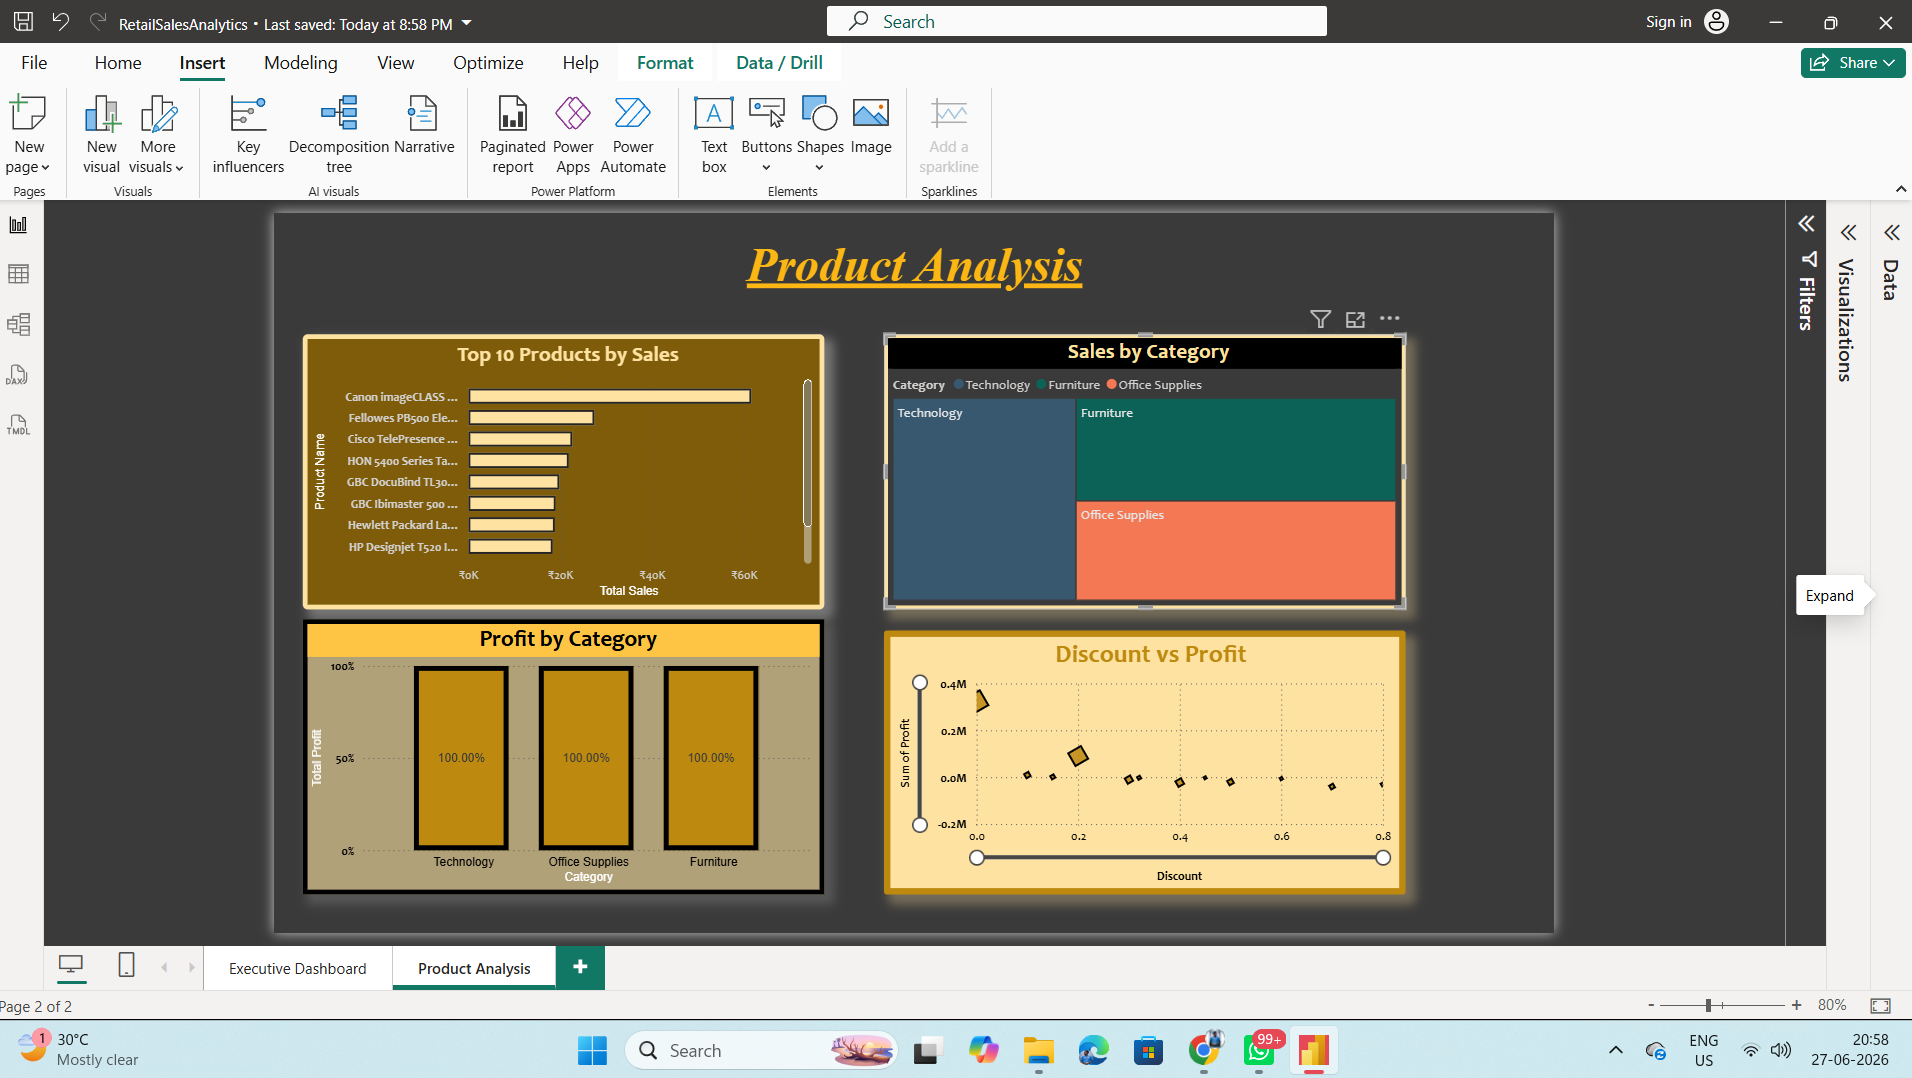

The page's visual inventory and layout, read from the dashboard file:
{"tool":"powerbi","page":{"name":"Product Analysis","canvas":[1280,720],"ordinal":1},"visuals":[{"type":"textbox","box":[448.8,20,383.8,67.5],"z":0},{"type":"barChart","title":"Top 10 Products by Sales","fields":{"Category":["Sample - Superstore.Product Name"],"Y":["DateTable.Total Sales"]},"box":[28.8,121.2,521.2,275],"z":1},{"type":"treemap","title":"Sales by Category","fields":{"Values":["DateTable.Total Sales"],"Group":["Sample - Superstore.Category"]},"box":[610,121.2,521.2,275],"z":2},{"type":"hundredPercentStackedColumnChart","title":"Profit by Category","fields":{"Category":["Sample - Superstore.Category"],"Y":["DateTable.Total Profit"]},"box":[28.8,406.2,521.2,275],"z":3},{"type":"scatterChart","title":"Discount vs Profit","fields":{"Size":["Sum(Sample - Superstore.Sales)"],"Y":["Sum(Sample - Superstore.Profit)"],"X":["Sample - Superstore.Discount"]},"box":[610,417.5,521.2,263.8],"z":4}]}

Visuals, with their boxes on the page's 1280x720 design canvas (x1, y1, x2, y2). These are canvas units, not pixel positions in the 1912x1078 screenshot, which may show the page scaled, cropped or inside an application window:
textbox: box=[449, 20, 833, 88]
"Top 10 Products by Sales" barChart: box=[29, 121, 550, 396]
"Sales by Category" treemap: box=[610, 121, 1131, 396]
"Profit by Category" hundredPercentStackedColumnChart: box=[29, 406, 550, 681]
"Discount vs Profit" scatterChart: box=[610, 418, 1131, 681]
